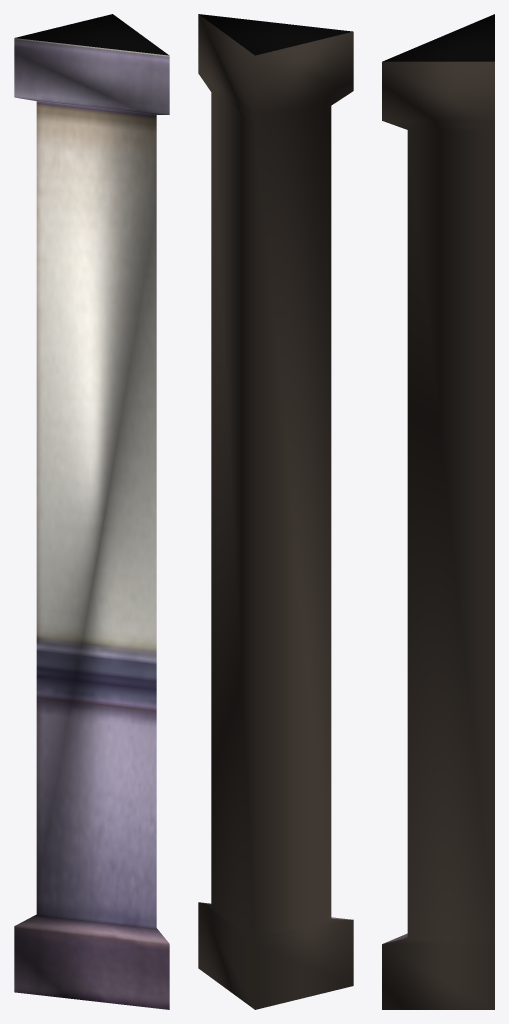
File: a_SCwall02_1.glb
3 renders of one model, left to right at view 1: azimuth 30°, elevation 25°; view 2: azimuth 210°, elevation 25°; view 3: azimuth 270°, elevation 25°, orthographic.
Parts seen in each view (by area): view 1: a_SCwall02_1; view 2: a_SCwall02_1; view 3: a_SCwall02_1.
Boxes of the visible parts, x1=… form: a_SCwall02_1: x1=14, y1=14, x2=169, y2=1009; a_SCwall02_1: x1=198, y1=14, x2=353, y2=1009; a_SCwall02_1: x1=382, y1=14, x2=494, y2=1009.
Size of the model in its own units: 0.324 by 3 by 0.324.
1 material, 1 textured.
